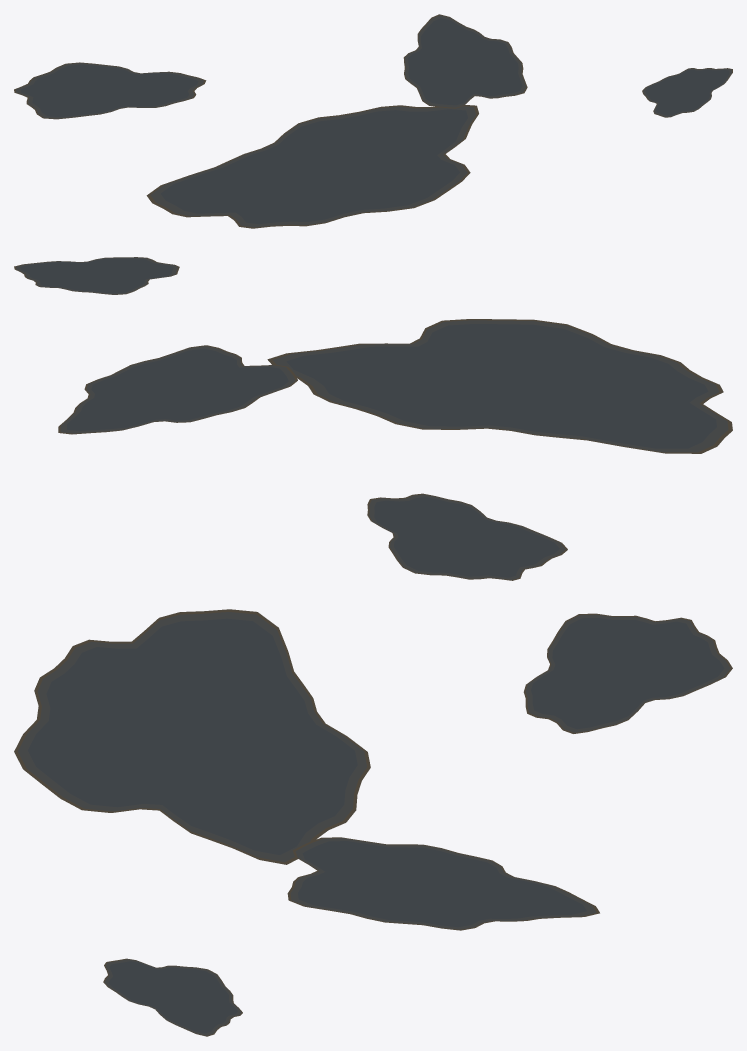
File: w11a-plaza-pool-overlay.glb
3 renders of one model, top to bottom at view 1: azimuth 30°, elevation 25°; view 2: azimuth 150°, elevation 25°; view 3: azimuth 270°, elevation 25°, orthographic. The views are drawn at different scales.
Visible parts, largest first — view 1: Irregular pool footprint 0, Irregular pool footprint 1, Irregular pool footprint 2, Irregular pool footprint 3; view 2: Irregular pool footprint 0, Irregular pool footprint 1, Irregular pool footprint 2, Irregular pool footprint 3; view 3: Irregular pool footprint 0, Irregular pool footprint 1, Irregular pool footprint 2, Irregular pool footprint 3.
Part boxes in pixels (<box>): Irregular pool footprint 0: <box>146,105,478,228</box>; Irregular pool footprint 1: <box>403,14,527,108</box>; Irregular pool footprint 2: <box>14,62,206,119</box>; Irregular pool footprint 3: <box>642,68,732,117</box>; Irregular pool footprint 0: <box>267,319,732,453</box>; Irregular pool footprint 1: <box>58,345,297,434</box>; Irregular pool footprint 2: <box>367,493,567,580</box>; Irregular pool footprint 3: <box>14,257,179,294</box>; Irregular pool footprint 0: <box>14,609,370,864</box>; Irregular pool footprint 1: <box>287,837,599,930</box>; Irregular pool footprint 2: <box>523,613,732,733</box>; Irregular pool footprint 3: <box>103,958,242,1036</box>.
Size of the model in its own units: 4.81 by 0.00516 by 3.43.
